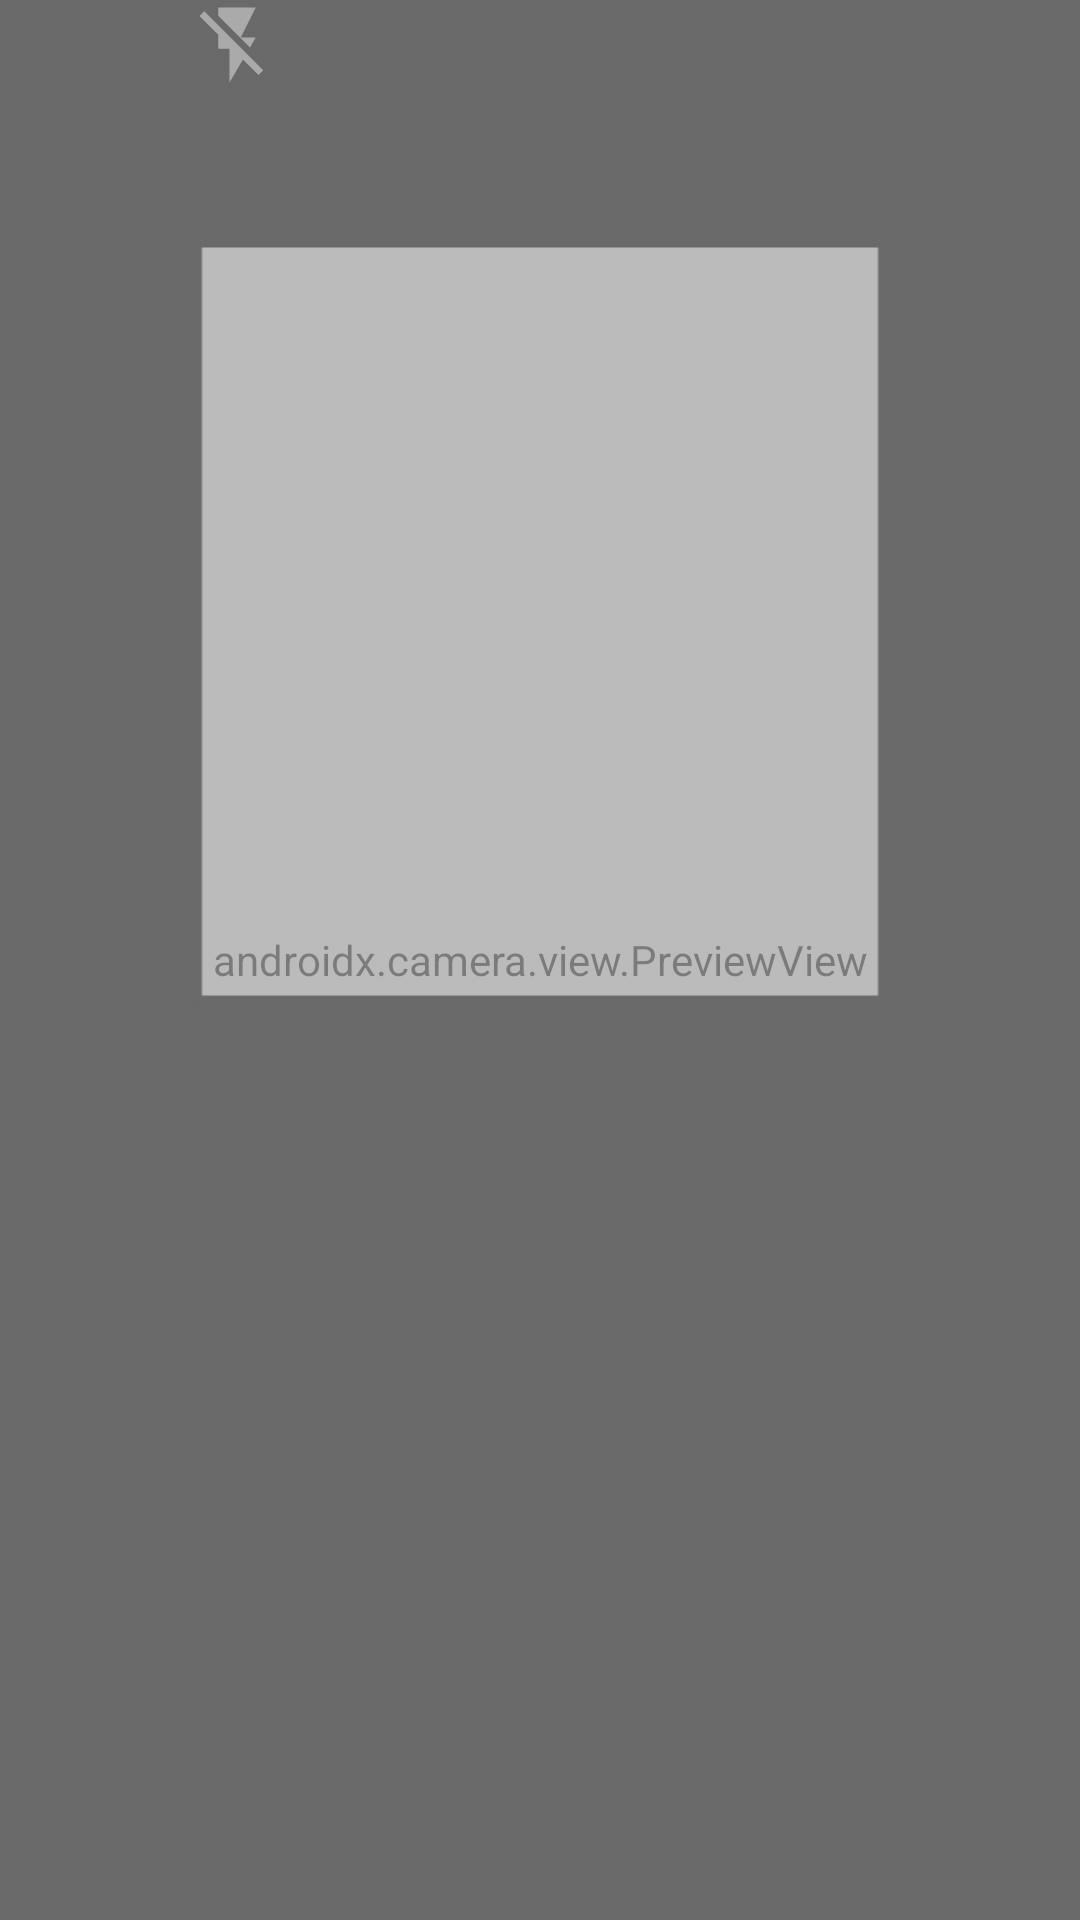

Locate icon controls on the screen. Image size 1080w x 1920h, boxes as (x1, y1, x2, y2).
flash off: (200, 7, 263, 82)
